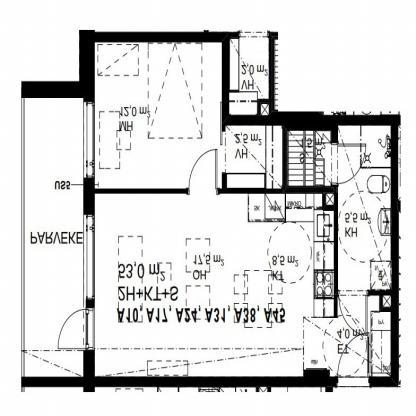door: (332, 331, 372, 393), (54, 307, 98, 353), (328, 141, 368, 191), (184, 148, 221, 199)
window: (78, 212, 98, 304), (79, 101, 100, 185)
